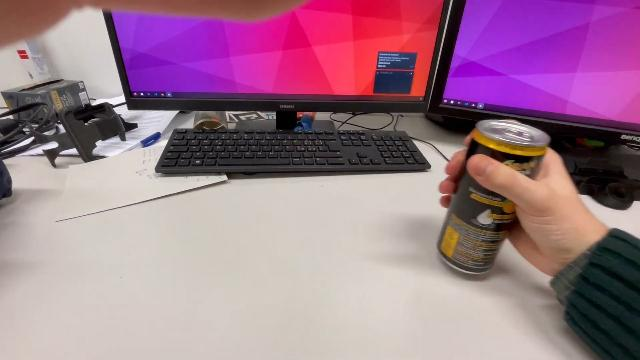OranSoda: (434, 118, 552, 278)
